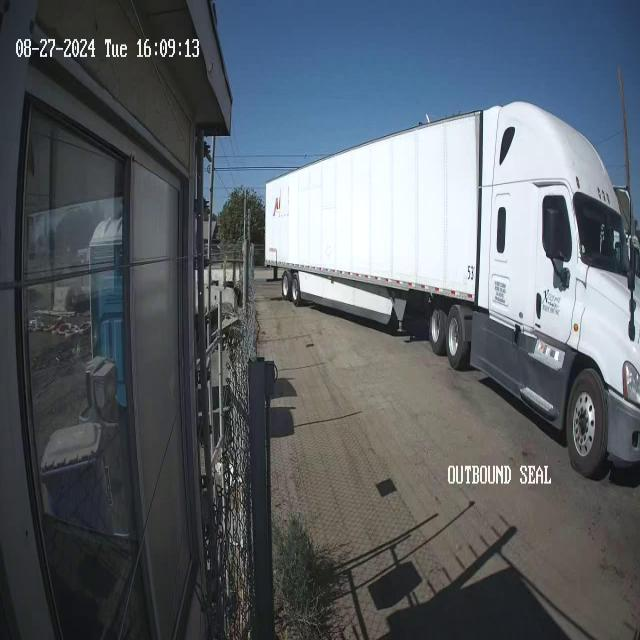TRUCK_CONTAINER: (263, 98, 639, 479)
